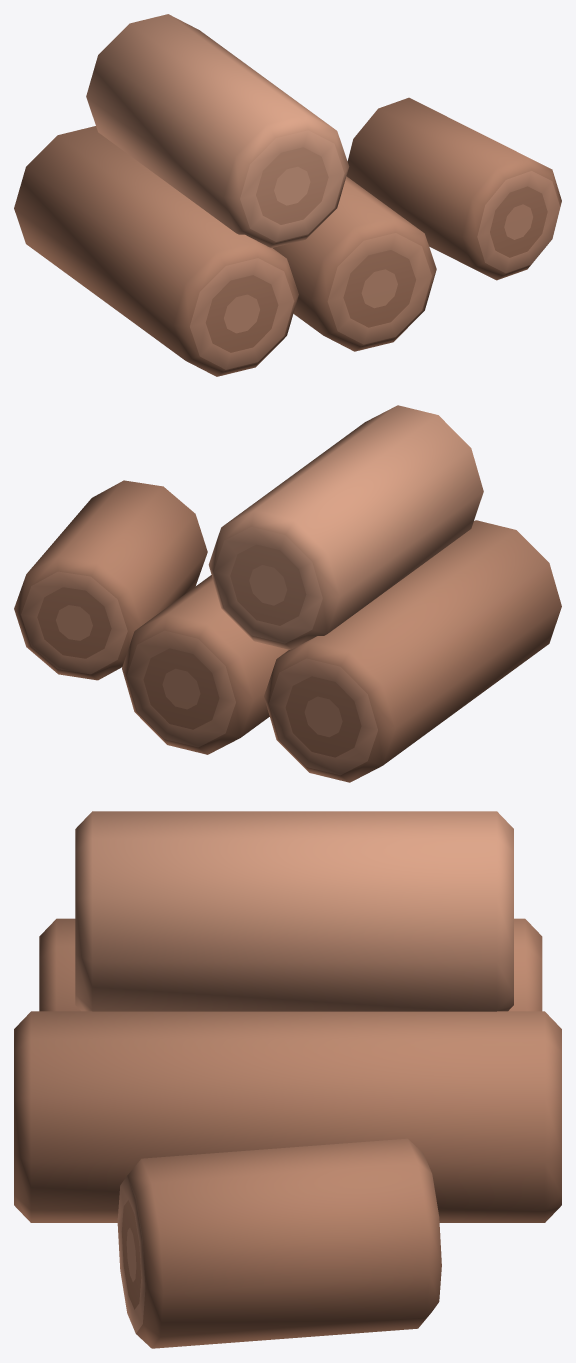
File: logs.fbx
The picture shows the model from 3 angles, top to bottom: view 1: azimuth 30°, elevation 25°; view 2: azimuth 150°, elevation 25°; view 3: azimuth 270°, elevation 25°; orthographic projection. The views are drawn at different scales.
Parts seen in each view (by area): view 1: logs; view 2: logs; view 3: logs.
Boxes of the visible parts, x1,y1,x2,y2 form: logs: (14, 14, 561, 376); logs: (14, 405, 561, 782); logs: (14, 811, 561, 1348).
Size of the model in its own units: 122 by 62.62 by 92.51.
1 material, 1 textured.
